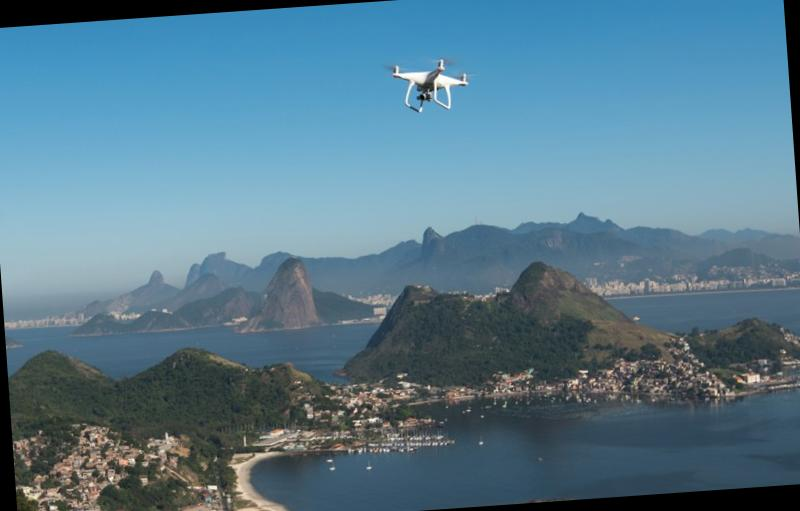drone: (371, 46, 483, 121)
